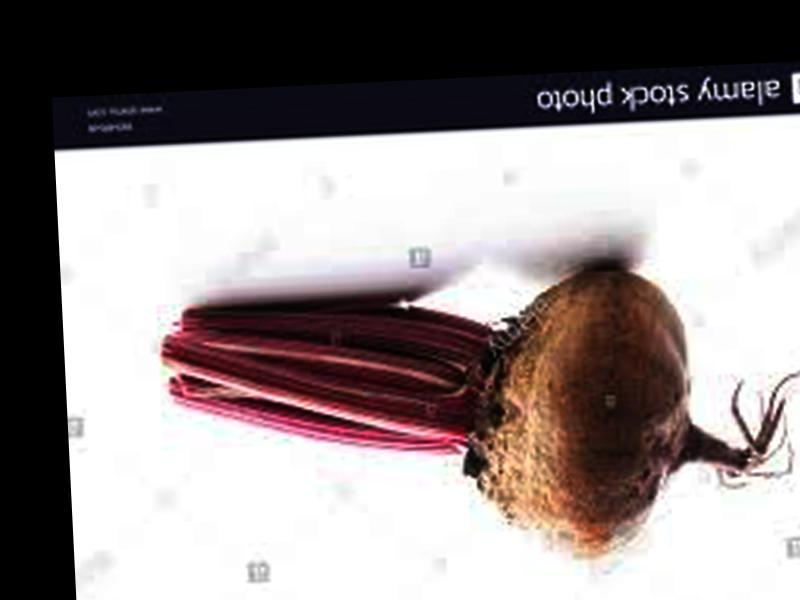Beet: (158, 257, 800, 576)
